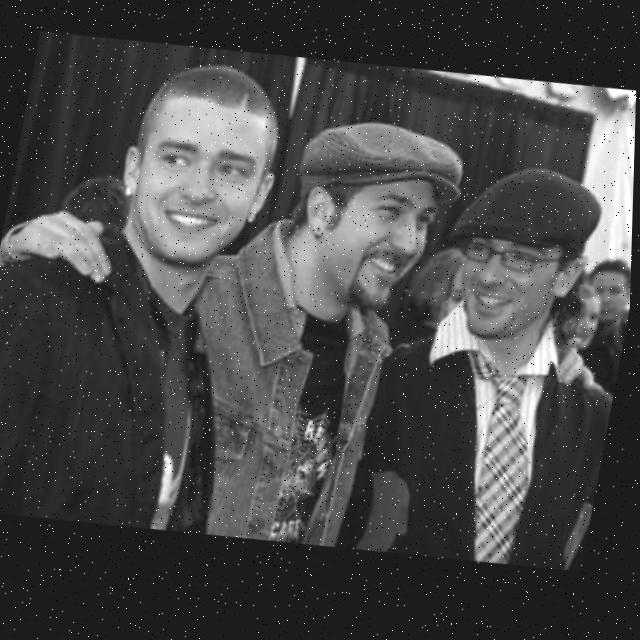face: (109, 76, 287, 270), (284, 165, 445, 337), (442, 222, 601, 347), (592, 256, 631, 322)
